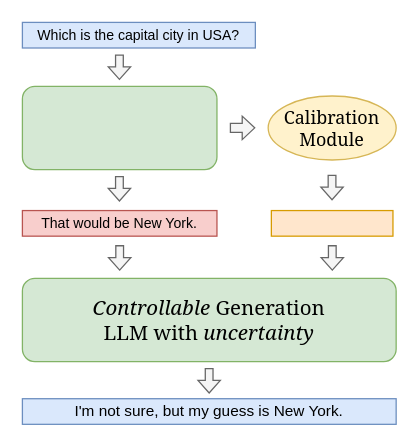
This 419x447 diagram has some shape labels left out. Each missing label, with the centre of its shape:
Confidence Score: point 331,222
Uncalibrated LLM: point 119,127
